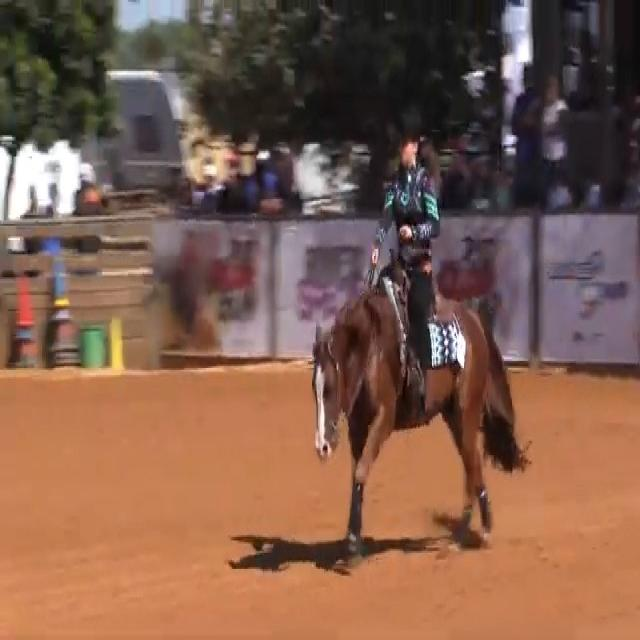horse: (308, 263, 525, 555)
